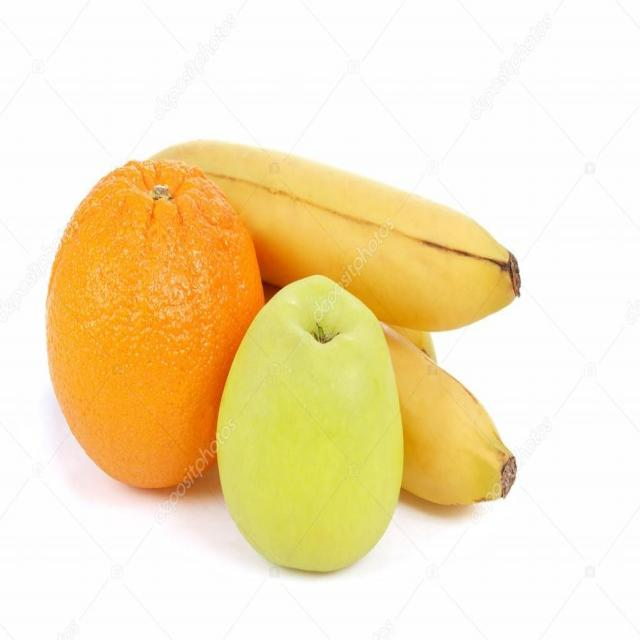banana: (155, 134, 535, 515)
orange: (42, 157, 267, 495)
pear: (220, 264, 402, 582)
